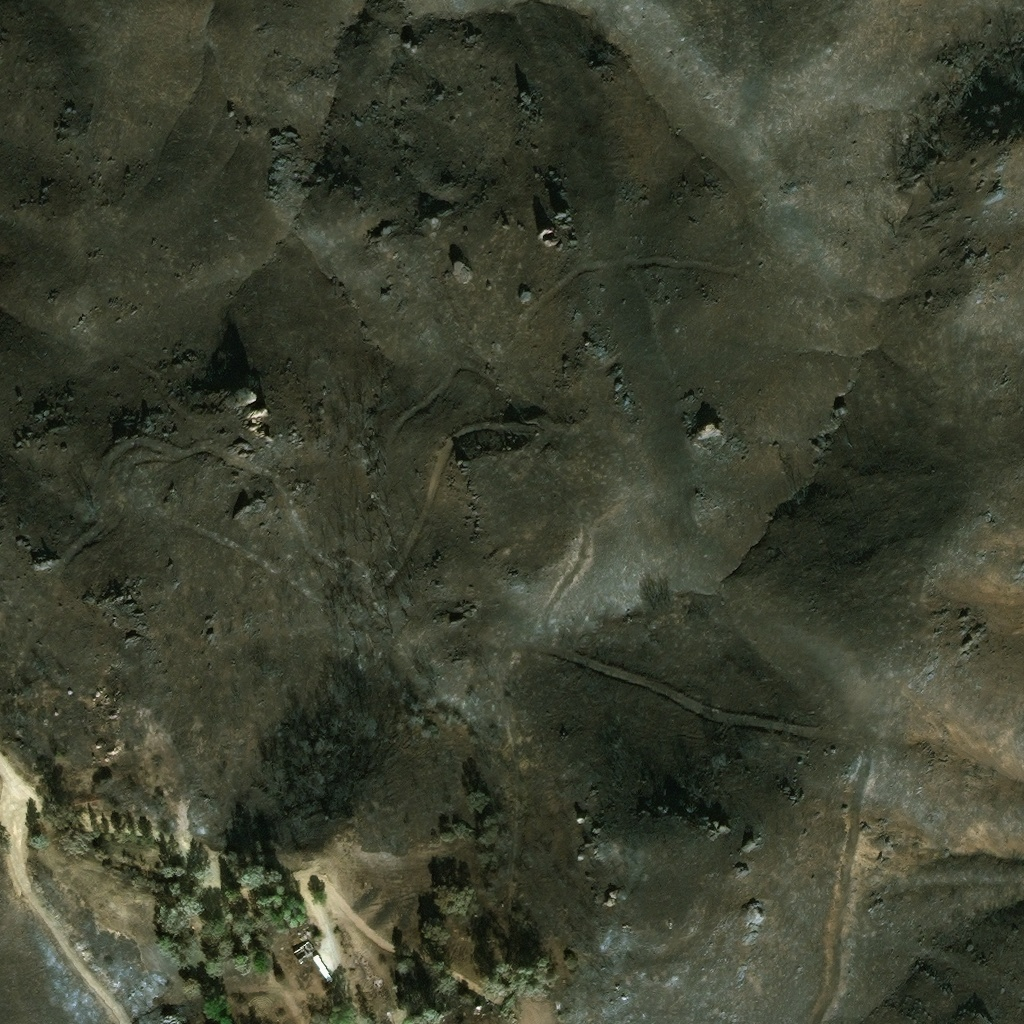3 destroyed: (301, 939, 315, 955)
